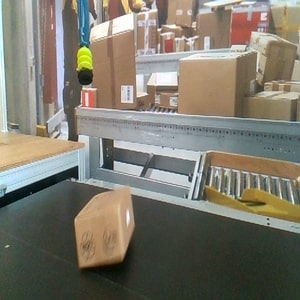box: (73, 185, 136, 270)
